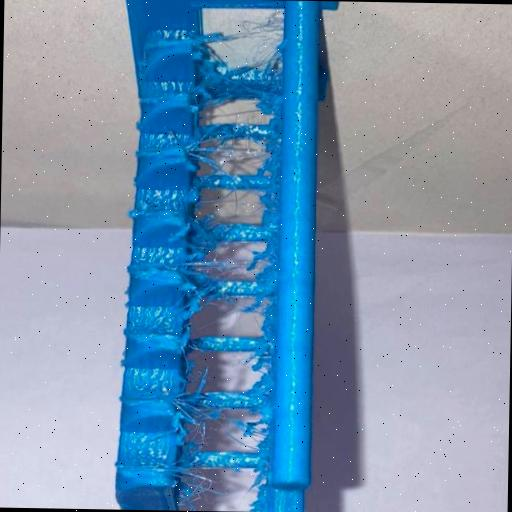stringing: (185, 254, 257, 276), (205, 143, 268, 168), (178, 472, 216, 506), (246, 10, 292, 38), (232, 418, 272, 446), (182, 404, 225, 430)
